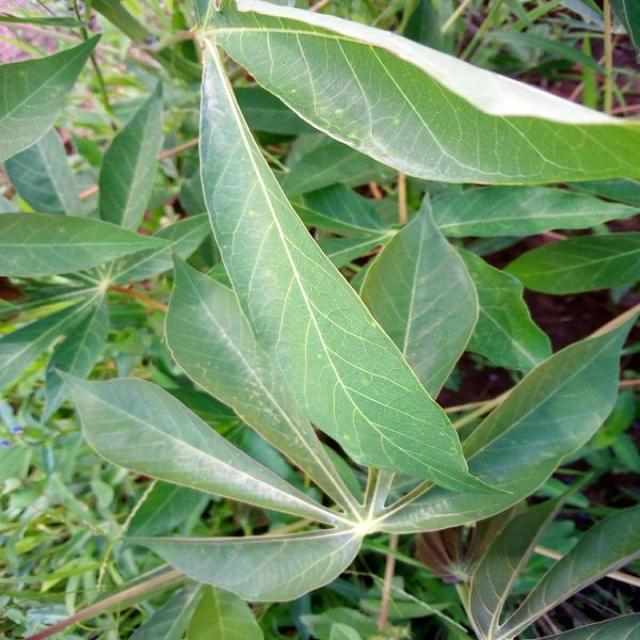cassava leaf: (2, 1, 638, 630), (194, 35, 475, 497), (194, 0, 638, 187)
